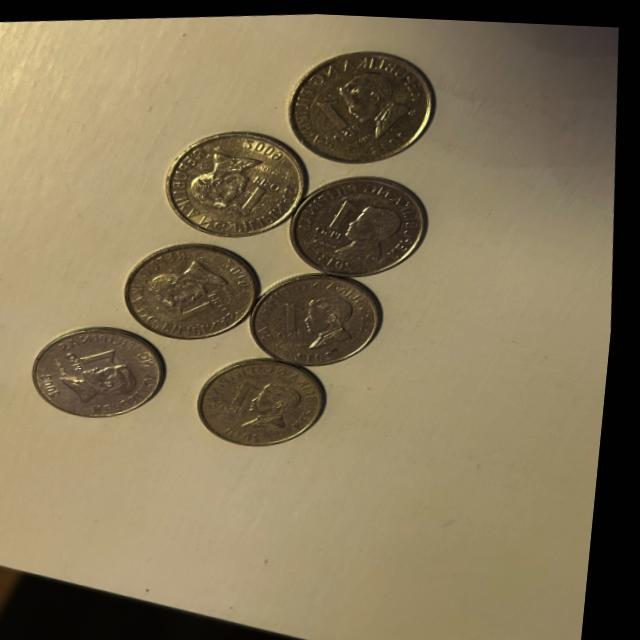1_Old_Front: (221, 165, 288, 219), (168, 281, 245, 327), (62, 332, 137, 377), (308, 189, 367, 246), (223, 365, 276, 418), (310, 90, 365, 141), (276, 292, 317, 342)
